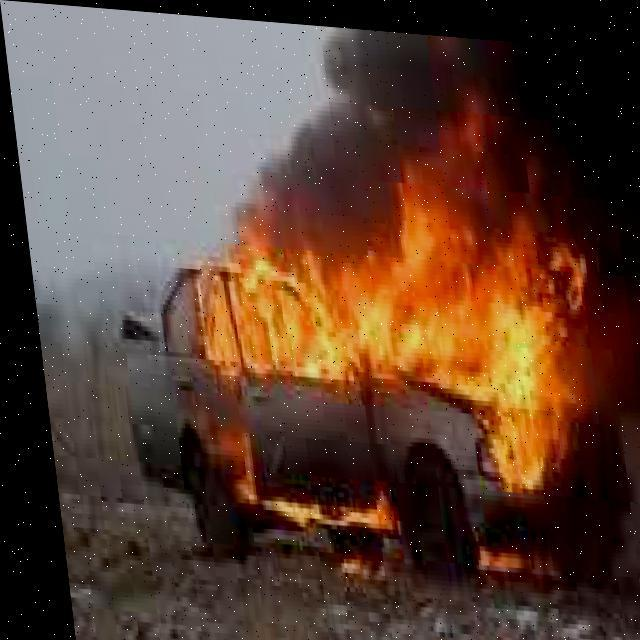Fire: (181, 92, 593, 500)
